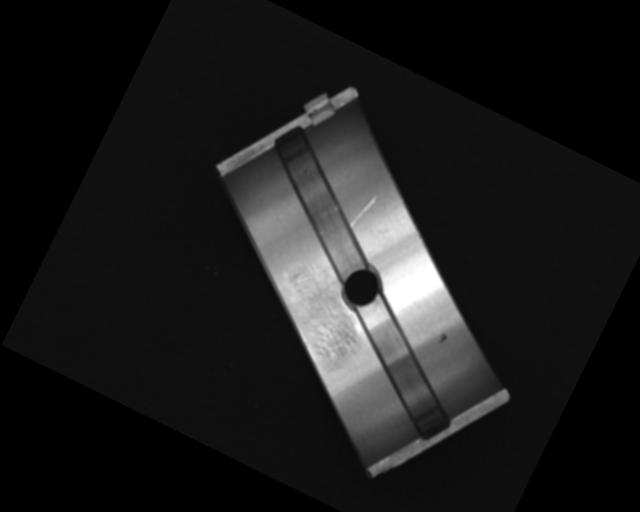bruise: (436, 331, 449, 346)
gap: (237, 127, 409, 283), (323, 294, 486, 443)
hole: (335, 260, 389, 314)
nick: (349, 190, 376, 231)
scratch: (260, 253, 381, 368)
